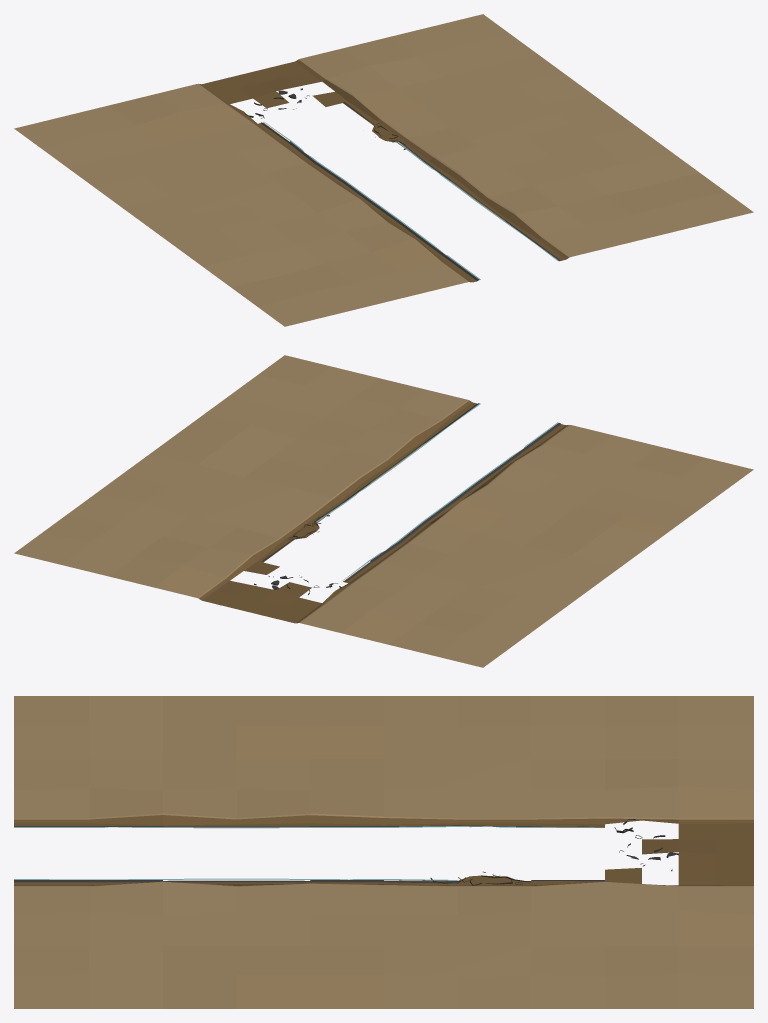
File: model_road_dirtstraight_3_.fbx
The picture shows the model from 3 angles, top to bottom: view 1: azimuth 30°, elevation 25°; view 2: azimuth 150°, elevation 25°; view 3: azimuth 270°, elevation 25°; orthographic projection. The views are drawn at different scales.
Visible parts, largest first — view 1: model_road_dirt_straight_03; view 2: model_road_dirt_straight_03; view 3: model_road_dirt_straight_03.
Boxes of the visible parts, <box> form: model_road_dirt_straight_03: <box>14,14,753,326</box>; model_road_dirt_straight_03: <box>14,355,753,667</box>; model_road_dirt_straight_03: <box>14,696,753,1008</box>.
Bounding box in the file's own units: 0.6161 × 0.6161 × 0.00728.
